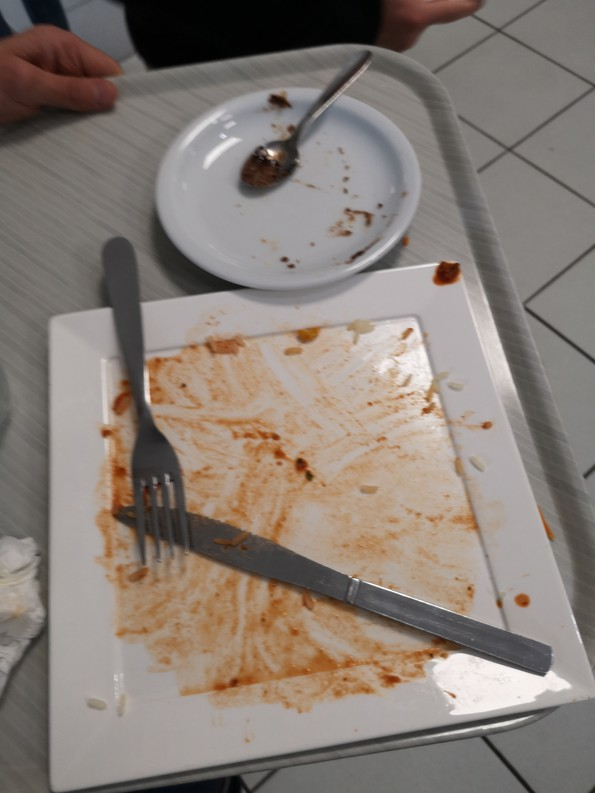cutlery: (110, 493, 558, 682), (92, 237, 210, 570), (234, 43, 389, 194)
trash: (1, 506, 37, 722)
